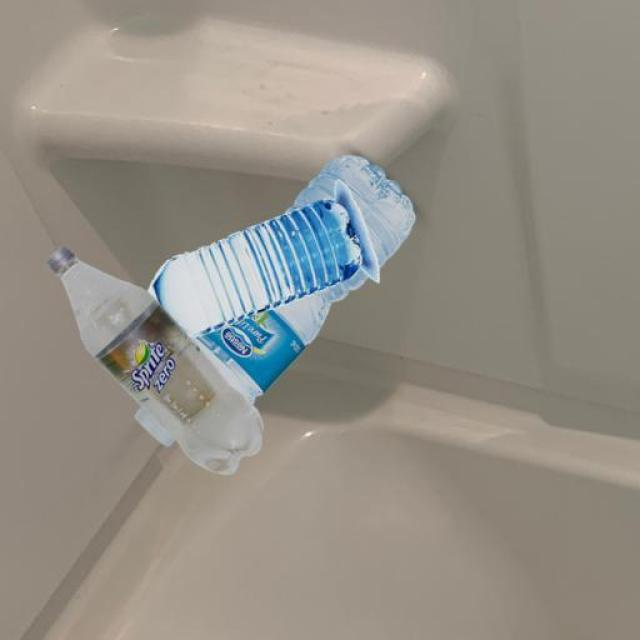bottle: (132, 152, 432, 452), (43, 227, 270, 478), (154, 179, 395, 324)
